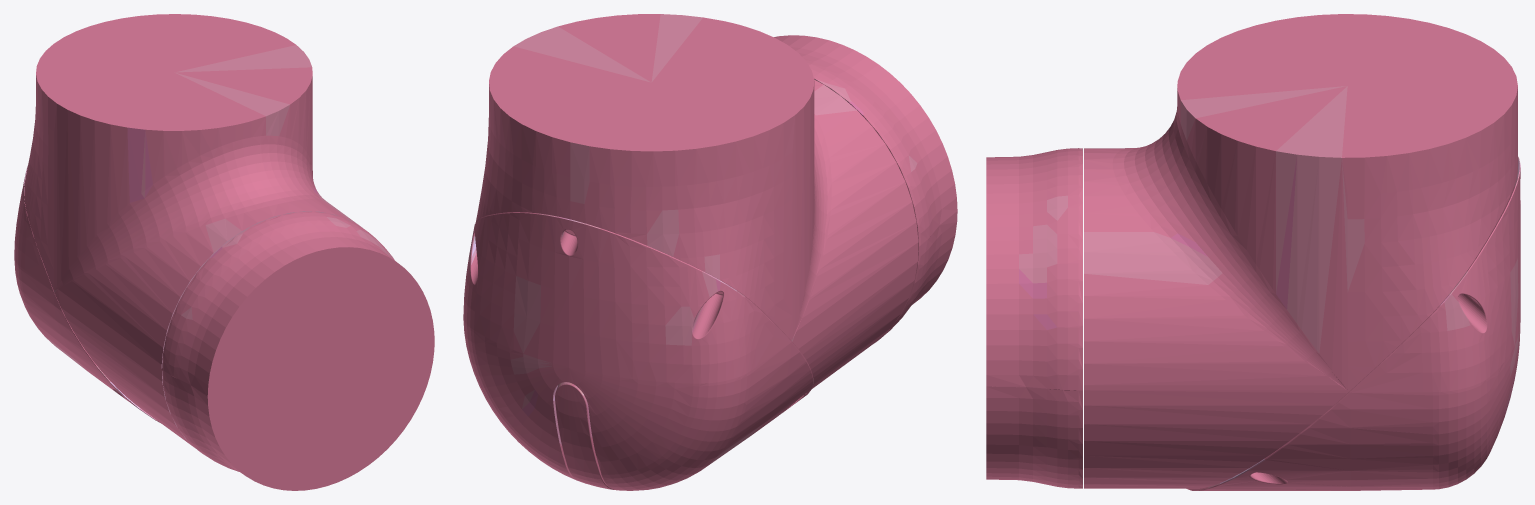
Rendered from FanucCRX10IALink1.dae.
3 renders of one model, left to right at view 1: azimuth 30°, elevation 25°; view 2: azimuth 150°, elevation 25°; view 3: azimuth 270°, elevation 25°, orthographic. The views are drawn at different scales.
Visible parts, largest first — view 1: CRX10IALink1; view 2: CRX10IALink1; view 3: CRX10IALink1.
Boxes of the visible parts, box(x1,y1,x2,y2) form: CRX10IALink1: box(14, 14, 434, 490); CRX10IALink1: box(463, 14, 957, 490); CRX10IALink1: box(986, 14, 1520, 490).
Size of the model in its own units: 0.158 by 0.2477 by 0.1992.
